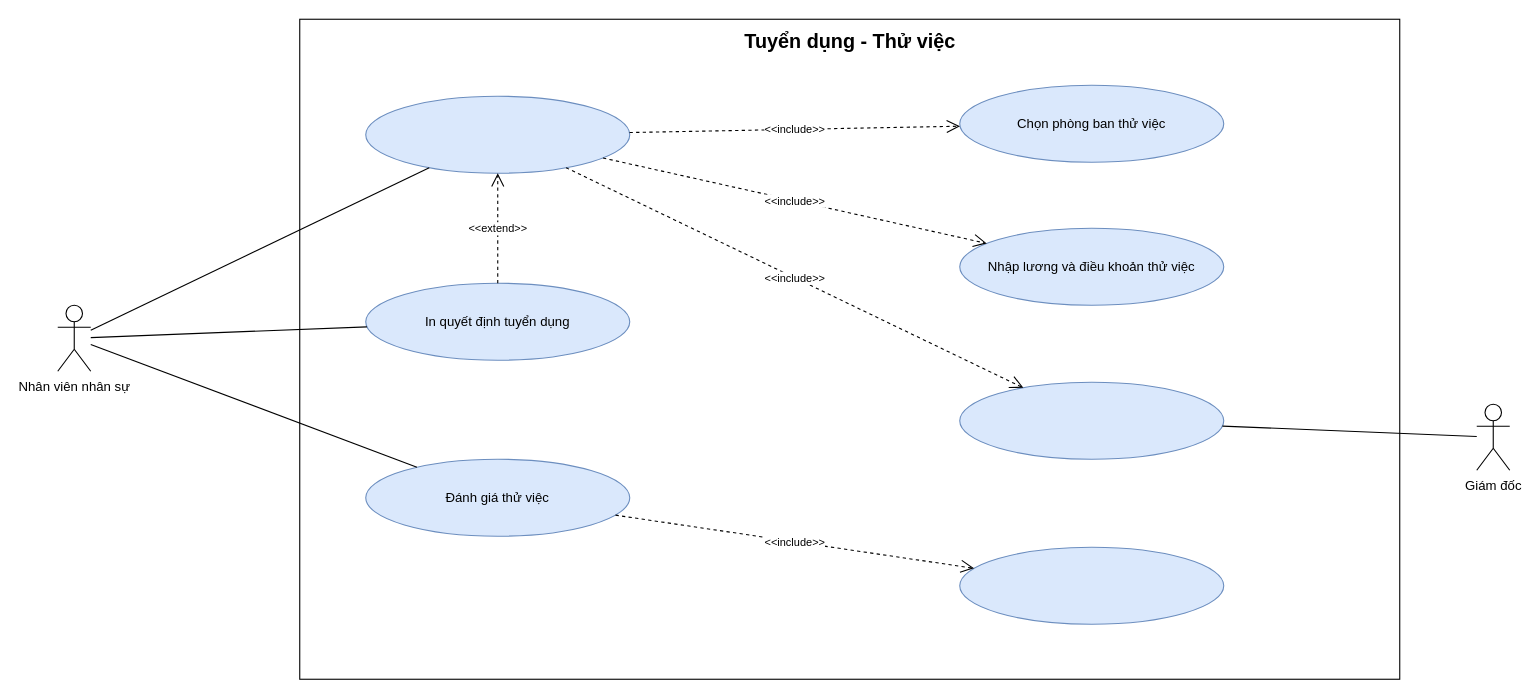
The diagram is 1540 pixels wide and 699 high, and some of its shapes have lost their labels. The box of each missing label's shape, as (x1, y1, x2, y2) in pixels:
Ký duyệt quyết định tuyển dụng: (959, 381, 1224, 459)
Lập quyết định tuyển dụng: (365, 95, 630, 173)
Theo dõi thời gian thử việc: (959, 546, 1224, 624)
